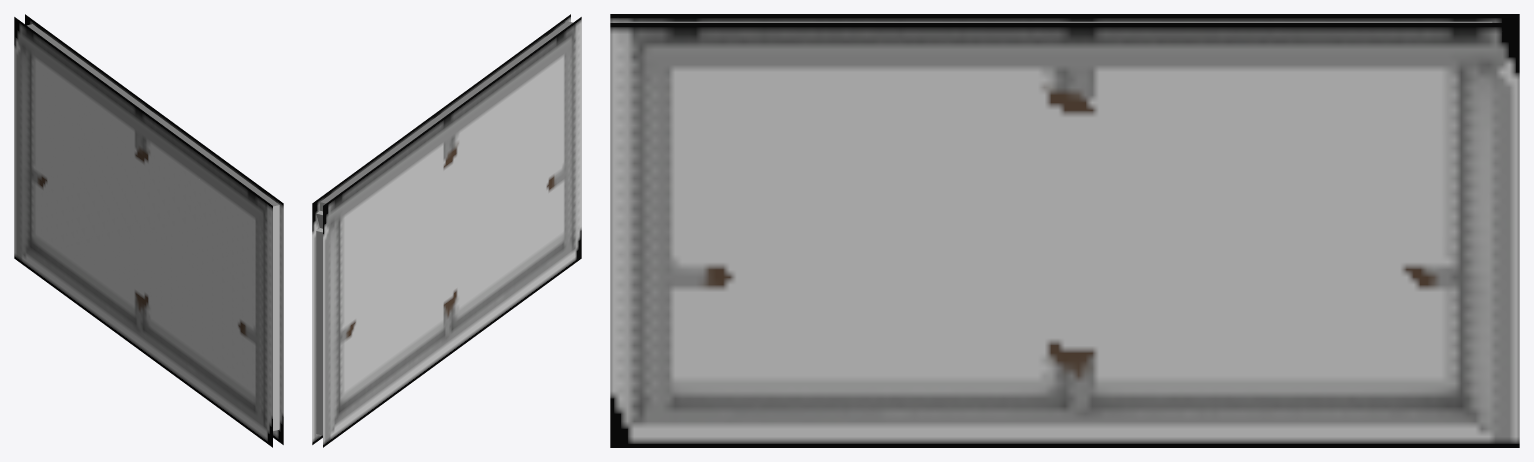
Rendered from pz_native_fixtures_windows_white_100_frame.obj.
3 views of the same model, side by side, from view 1: azimuth 30°, elevation 25°; view 2: azimuth 150°, elevation 25°; view 3: azimuth 270°, elevation 25° (orthographic). The views are drawn at different scales.
Parts seen in each view (by area): view 1: pz_native_fixtures_windows_white_100_frame; view 2: pz_native_fixtures_windows_white_100_frame; view 3: pz_native_fixtures_windows_white_100_frame.
Part boxes in pixels (x1=…): pz_native_fixtures_windows_white_100_frame: x1=14, y1=14, x2=283, y2=447; pz_native_fixtures_windows_white_100_frame: x1=312, y1=14, x2=581, y2=447; pz_native_fixtures_windows_white_100_frame: x1=610, y1=14, x2=1519, y2=447.
Bounding box in the file's own units: 0.04 × 0.875 × 1.7.
1 material, 1 textured.
